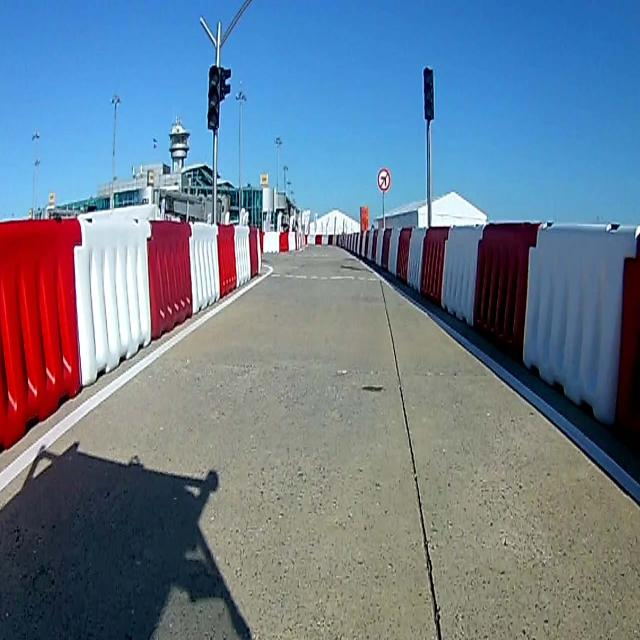soladonulmez: (377, 169, 391, 191)
